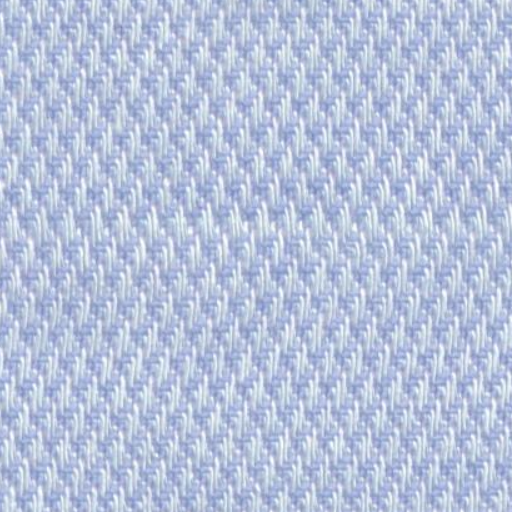TuoSha: (29, 187, 496, 278)
